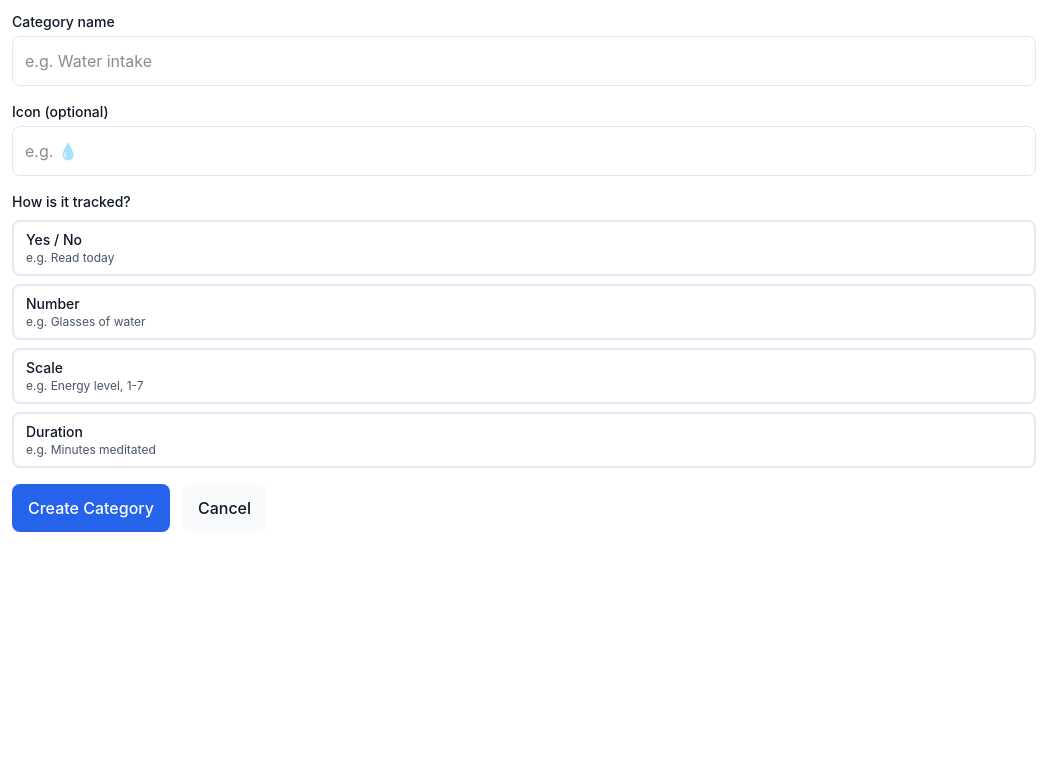
Test: CategoryCreateForm › shows a friendly error when creating fails
Type "Sleep" into the field labelled "Category name" at (524, 61), box [12,36,1036,86]
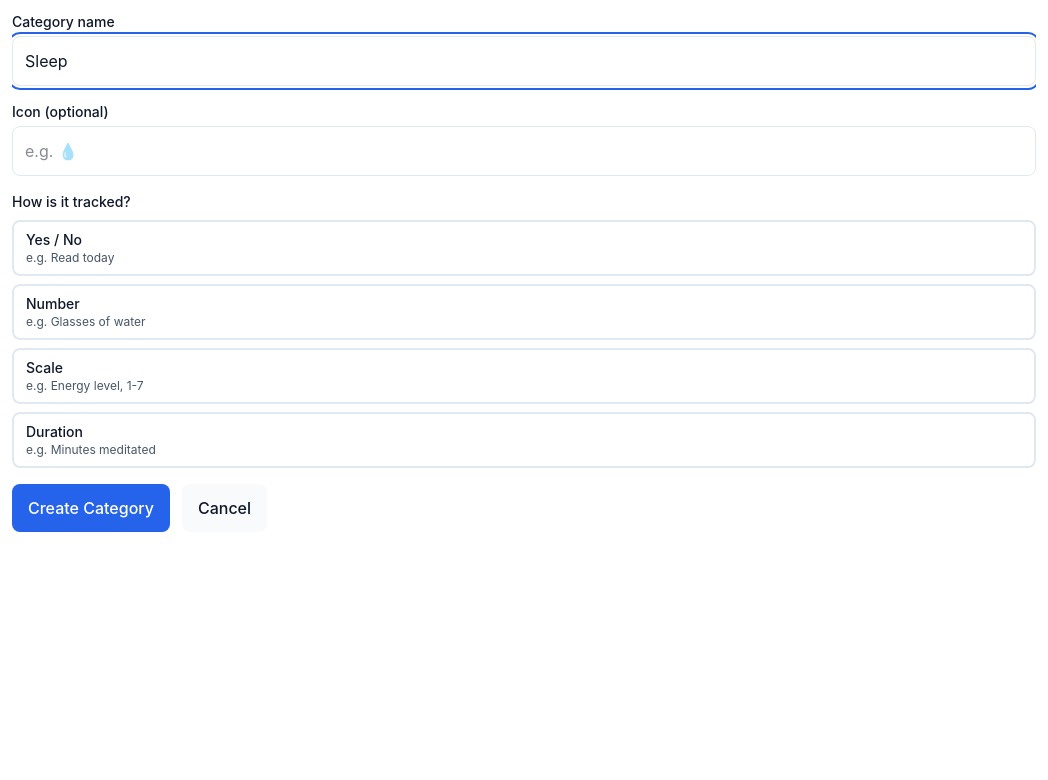
Click the radio button labelled "Duration e.g. Minutes meditated" at (54, 432), box [12,412,1036,468]
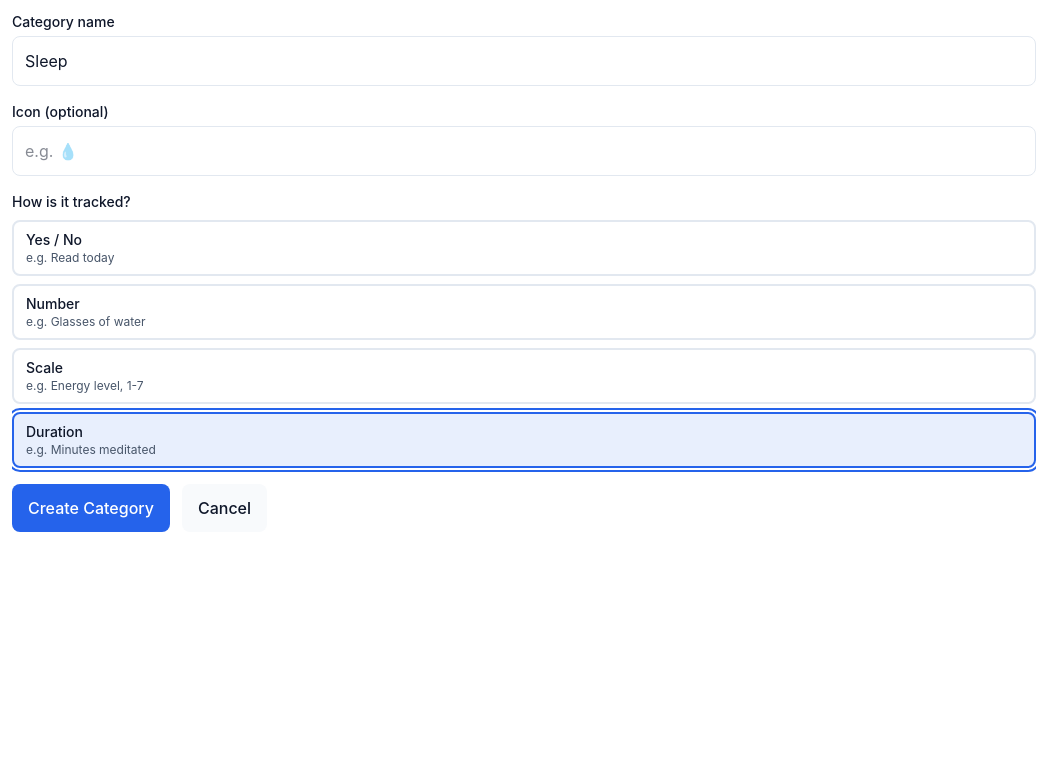
Click the button "Create Category" at (91, 508), box [12,484,170,532]
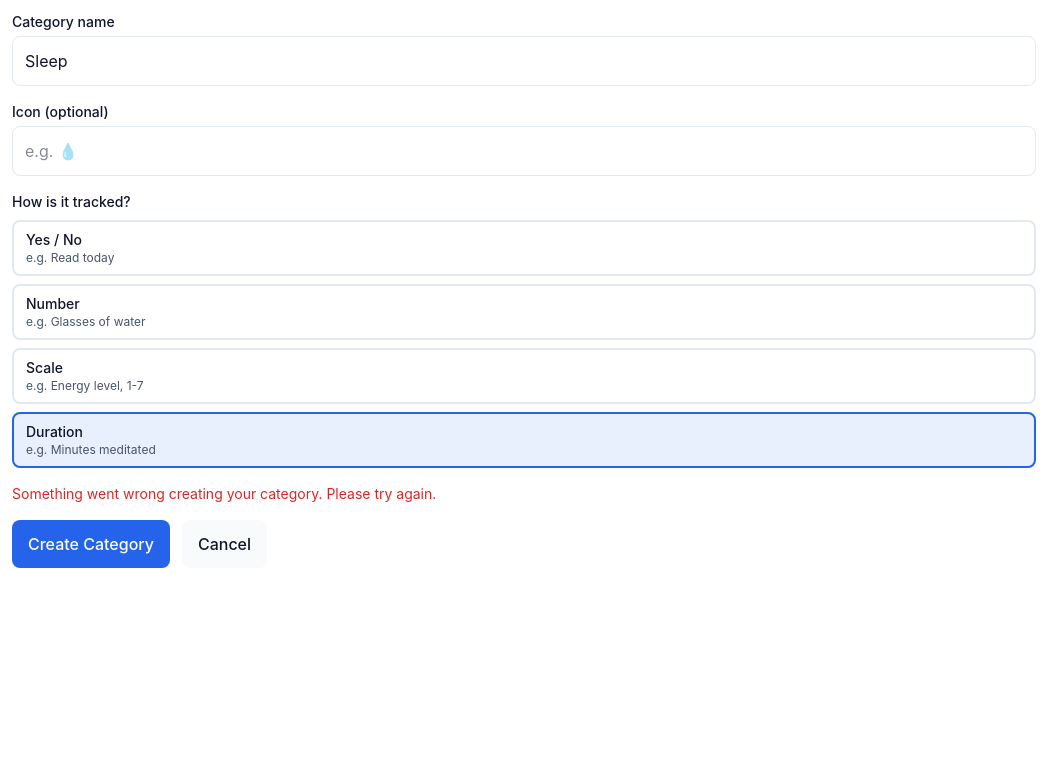
Expected: the text "Something went wrong creating your category. Please try again." is shown, [12,485,436,502]
